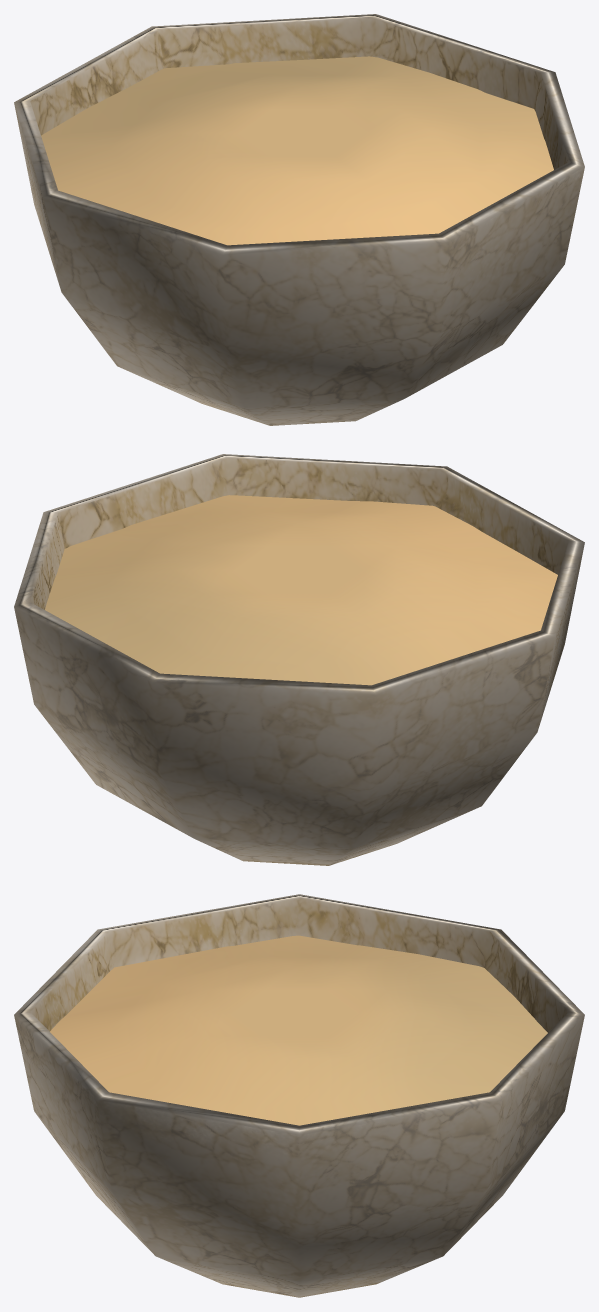
Rendered from arracacha8.glb.
The picture shows the model from 3 angles, top to bottom: view 1: azimuth 30°, elevation 25°; view 2: azimuth 150°, elevation 25°; view 3: azimuth 270°, elevation 25°; orthographic projection. The views are drawn at different scales.
Parts seen in each view (by area): view 1: pDisc3; view 2: pDisc3; view 3: pDisc3.
Part boxes in pixels (bbox=[...]): pDisc3: bbox=[14, 14, 584, 425]; pDisc3: bbox=[14, 454, 584, 865]; pDisc3: bbox=[14, 894, 584, 1297].
Size of the model in its own units: 0.6942 by 0.3217 by 0.6942.
2 materials, 2 textured.
